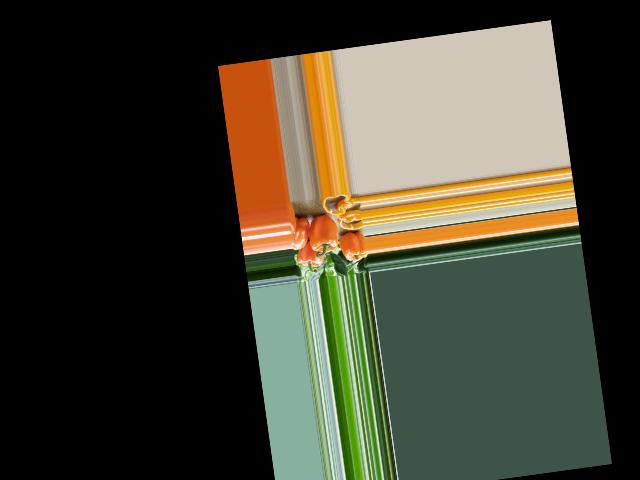bell_pepper: (288, 214, 312, 251)
